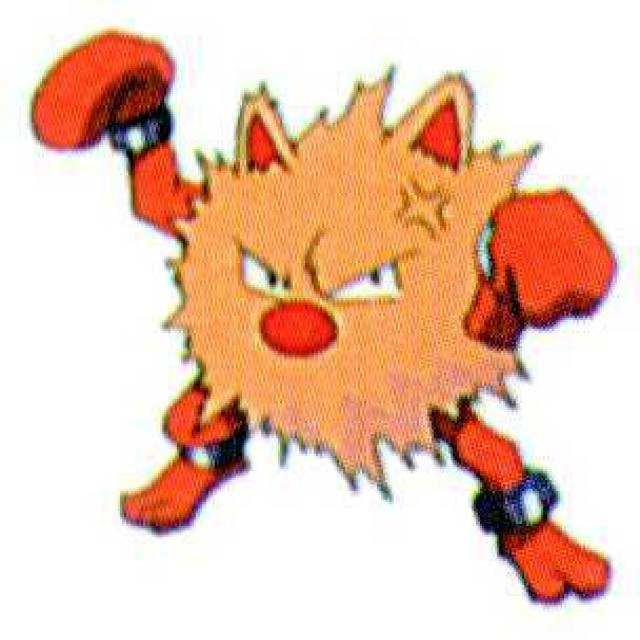Primeape: (122, 80, 563, 538)
